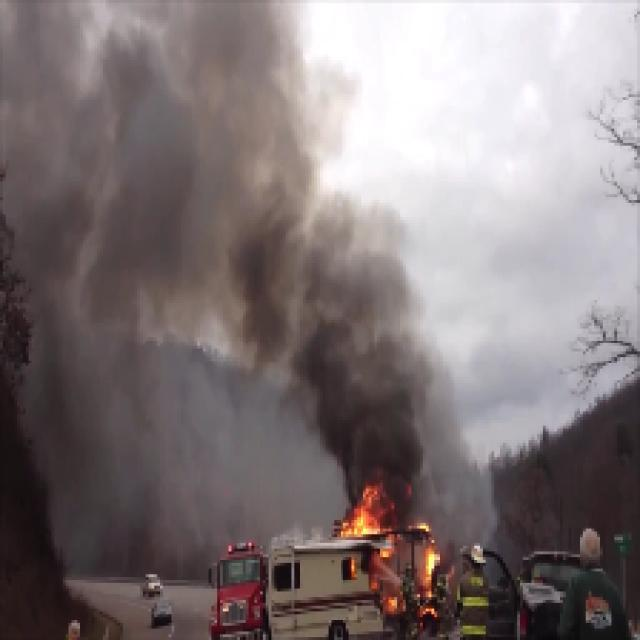Fire: (346, 492, 388, 546)
Smoke: (102, 87, 296, 296), (329, 350, 426, 476)
